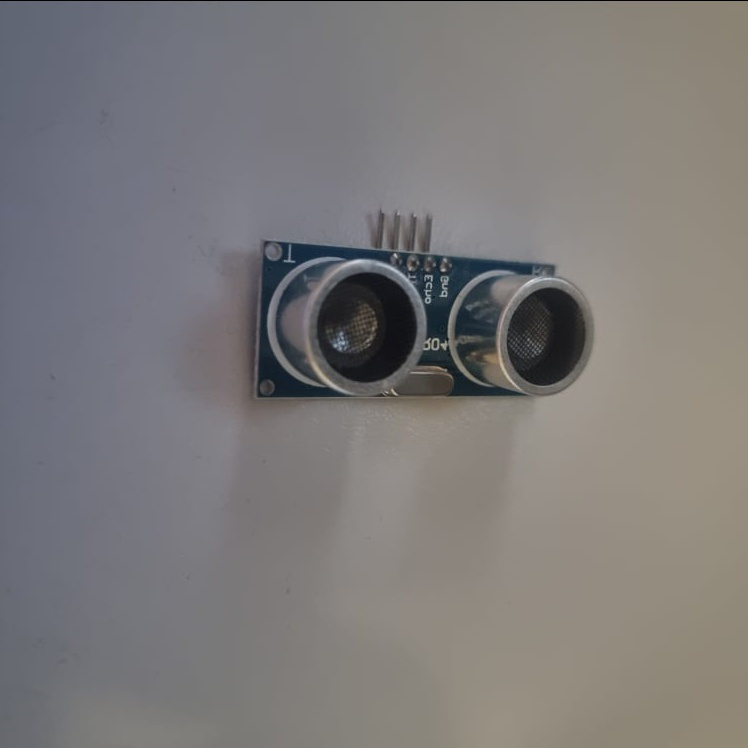SENSOR: (253, 207, 595, 404)
